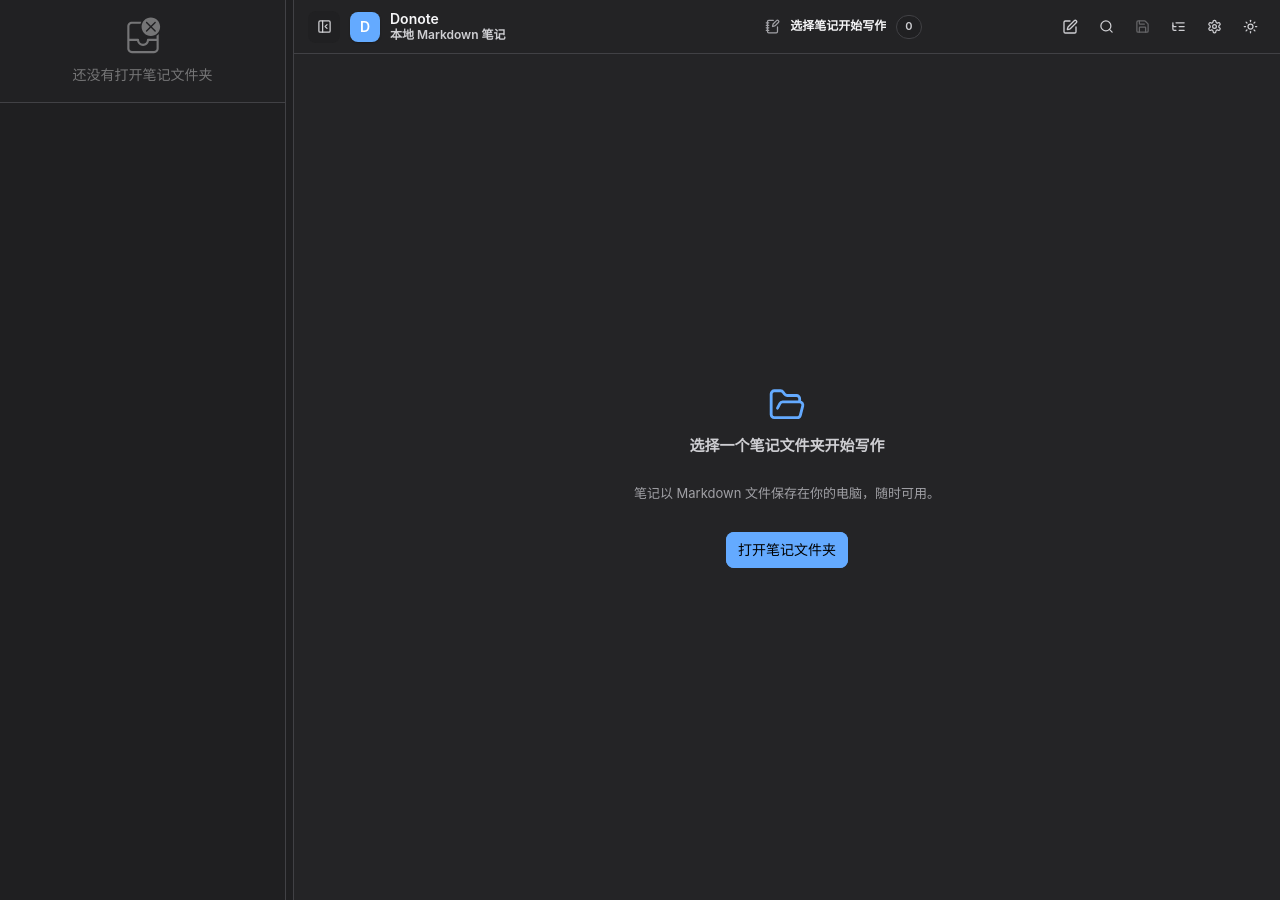
Test case: App shell › fills the workspace path from settings when no workspace is open
The image size is (1280, 900).
Click the button with test id "utility-settings" at point(1214, 26), box [1198,10,1230,42]
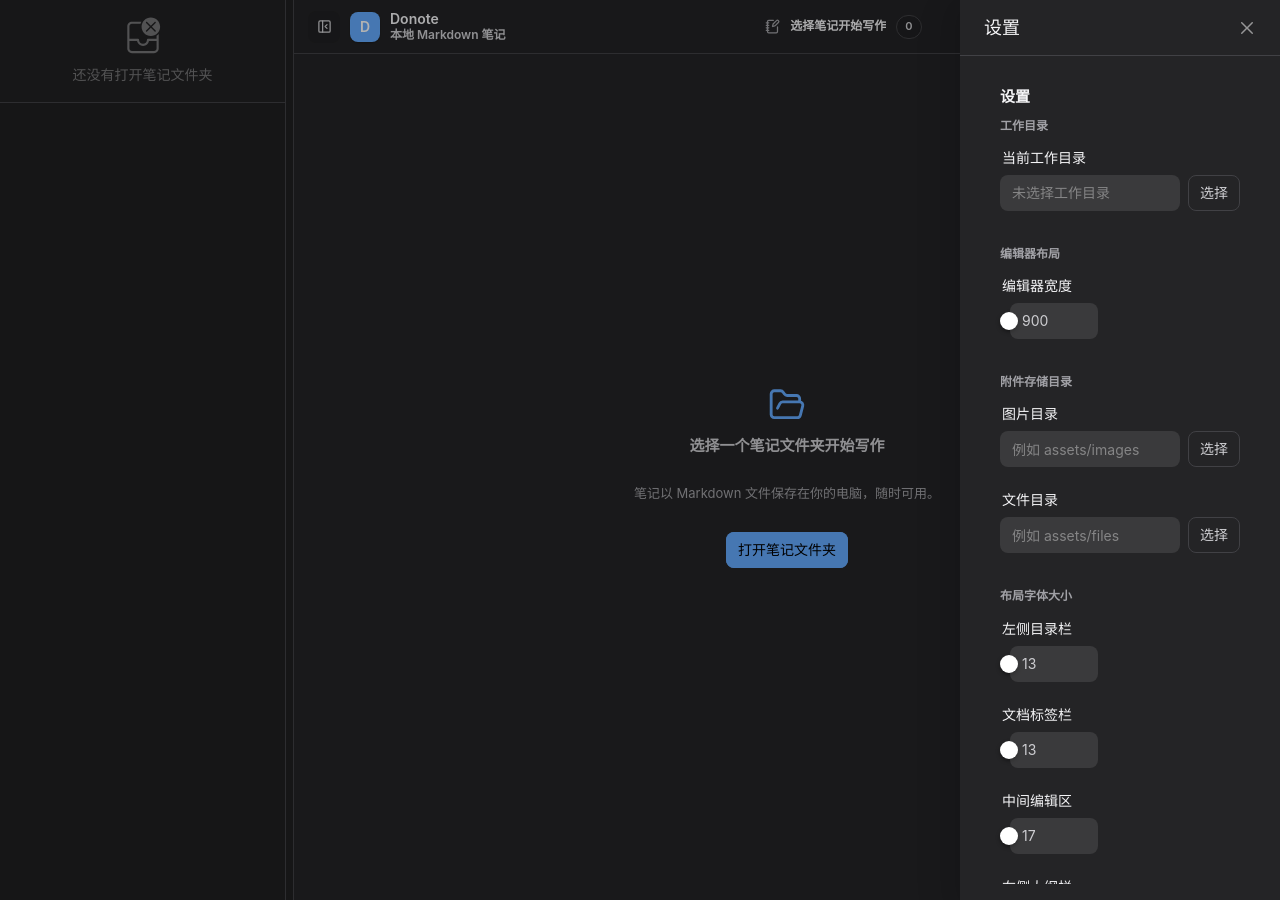
Result: the field with test id "settings-workspace-root" is empty at [1012,175,1168,211]
Click the button with test id "select-workspace-root" at point(1214, 193), box [1188,175,1240,211]
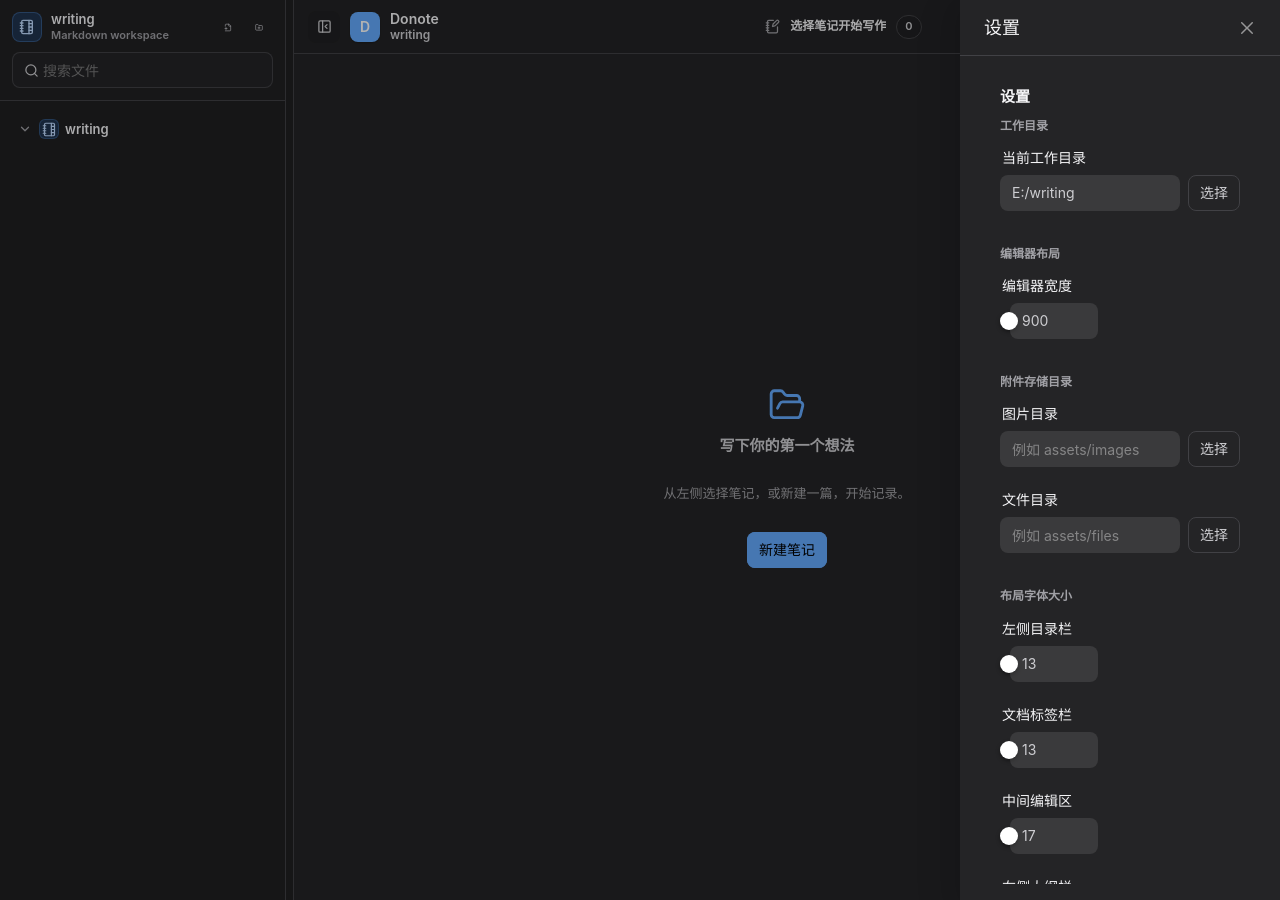
Result: the field with test id "settings-workspace-root" holds "E:/writing" at [1012,175,1168,211]
Result: the text "writing" is shown at [390,27,430,42]
